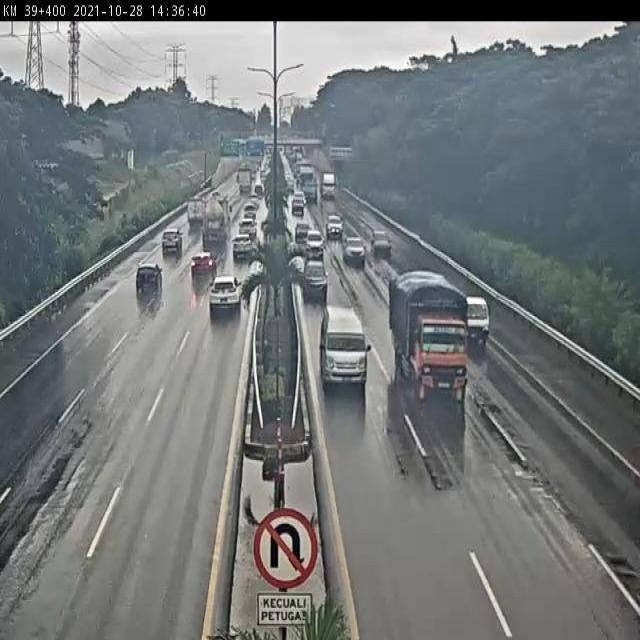car: (208, 271, 243, 317), (134, 259, 166, 305), (302, 256, 331, 304), (340, 224, 366, 274), (158, 219, 189, 260), (192, 248, 218, 286), (367, 224, 393, 262), (319, 211, 348, 240), (228, 232, 255, 258)
small bus: (318, 307, 381, 399)
truck-m-: (386, 260, 480, 401), (236, 165, 257, 198)
truck-s-: (460, 287, 497, 346)
